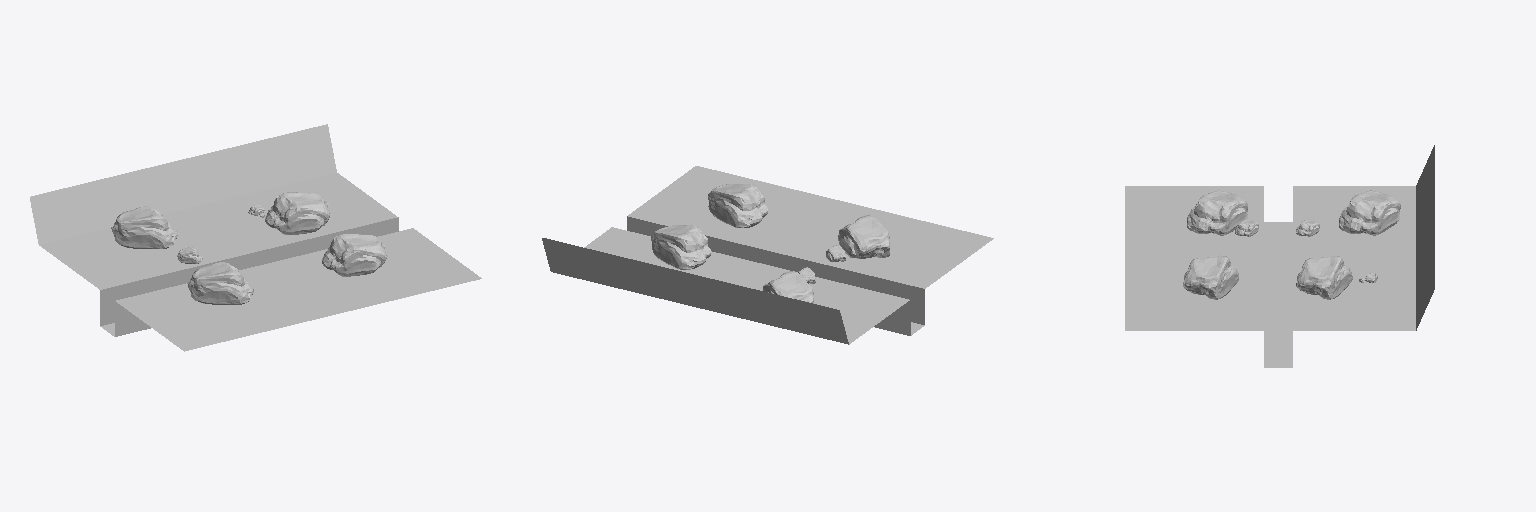
Rendered from escenario_lava_2.obj.
3 views of the same model, side by side, from view 1: azimuth 30°, elevation 25°; view 2: azimuth 150°, elevation 25°; view 3: azimuth 270°, elevation 25° (orthographic).
Visible parts, largest first — view 1: suelo_lava escenario_lava, escenario_lava Rock_18, escenario_lava Rock_16, escenario_lava Rock_23, escenario_lava Rock_17; view 2: suelo_lava escenario_lava, escenario_lava Rock_18, escenario_lava Rock_16, escenario_lava Rock_23, escenario_lava Rock_17; view 3: suelo_lava escenario_lava, escenario_lava Rock_17, escenario_lava Rock_23, escenario_lava Rock_18, escenario_lava Rock_16.
Part boxes in pixels (x1,y1,x2,y2): suelo_lava escenario_lava: (30,124,481,351); escenario_lava Rock_18: (265,192,329,234); escenario_lava Rock_16: (322,234,386,276); escenario_lava Rock_23: (187,262,253,304); escenario_lava Rock_17: (111,206,177,248); suelo_lava escenario_lava: (542,166,993,344); escenario_lava Rock_18: (651,225,710,269); escenario_lava Rock_16: (708,184,767,227); escenario_lava Rock_23: (838,215,890,258); escenario_lava Rock_17: (763,271,813,303); suelo_lava escenario_lava: (1125,145,1434,367); escenario_lava Rock_17: (1339,190,1400,235); escenario_lava Rock_23: (1187,190,1247,235); escenario_lava Rock_18: (1296,255,1352,299); escenario_lava Rock_16: (1183,255,1238,299).
Bounding box in the file's own units: 1644 × 410 × 1476.